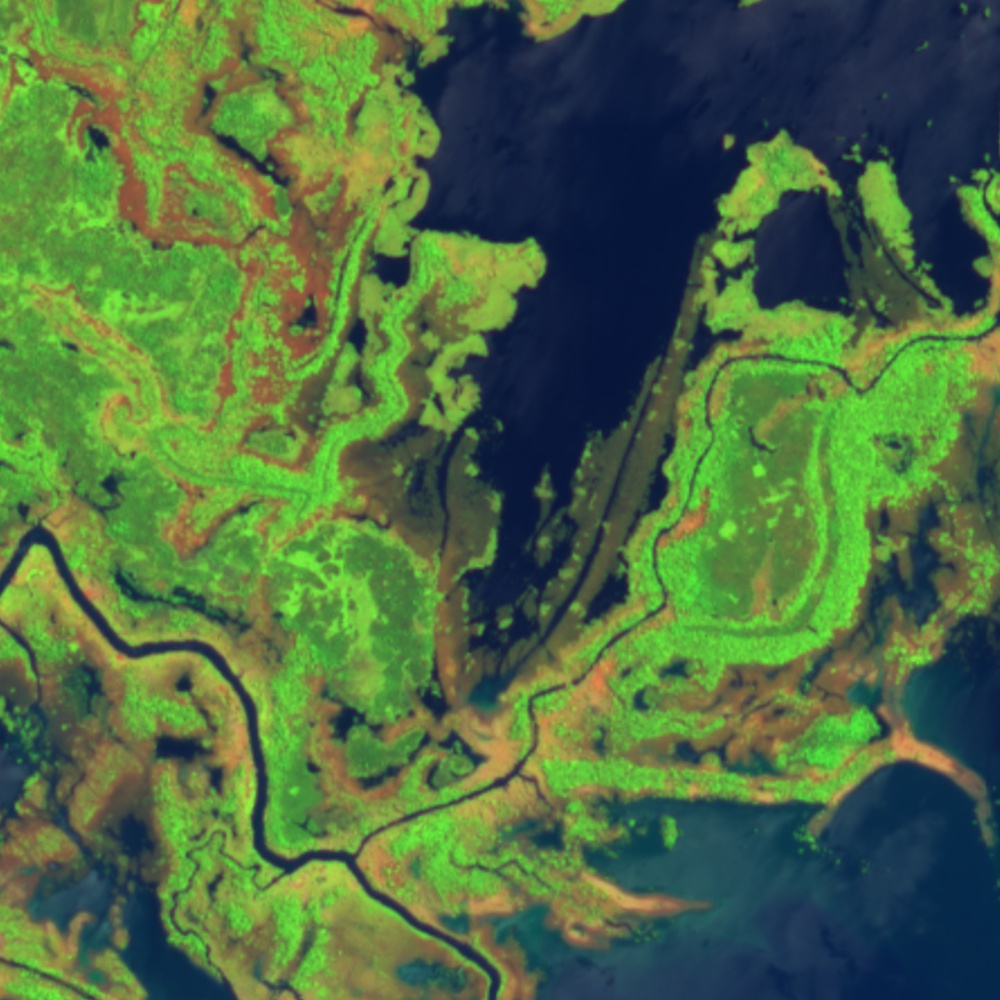legal: (508, 112, 1000, 813), (60, 26, 441, 558), (1, 562, 418, 1000), (295, 229, 550, 806), (557, 627, 991, 843), (275, 1, 485, 261), (373, 800, 712, 957), (356, 1, 633, 54)
